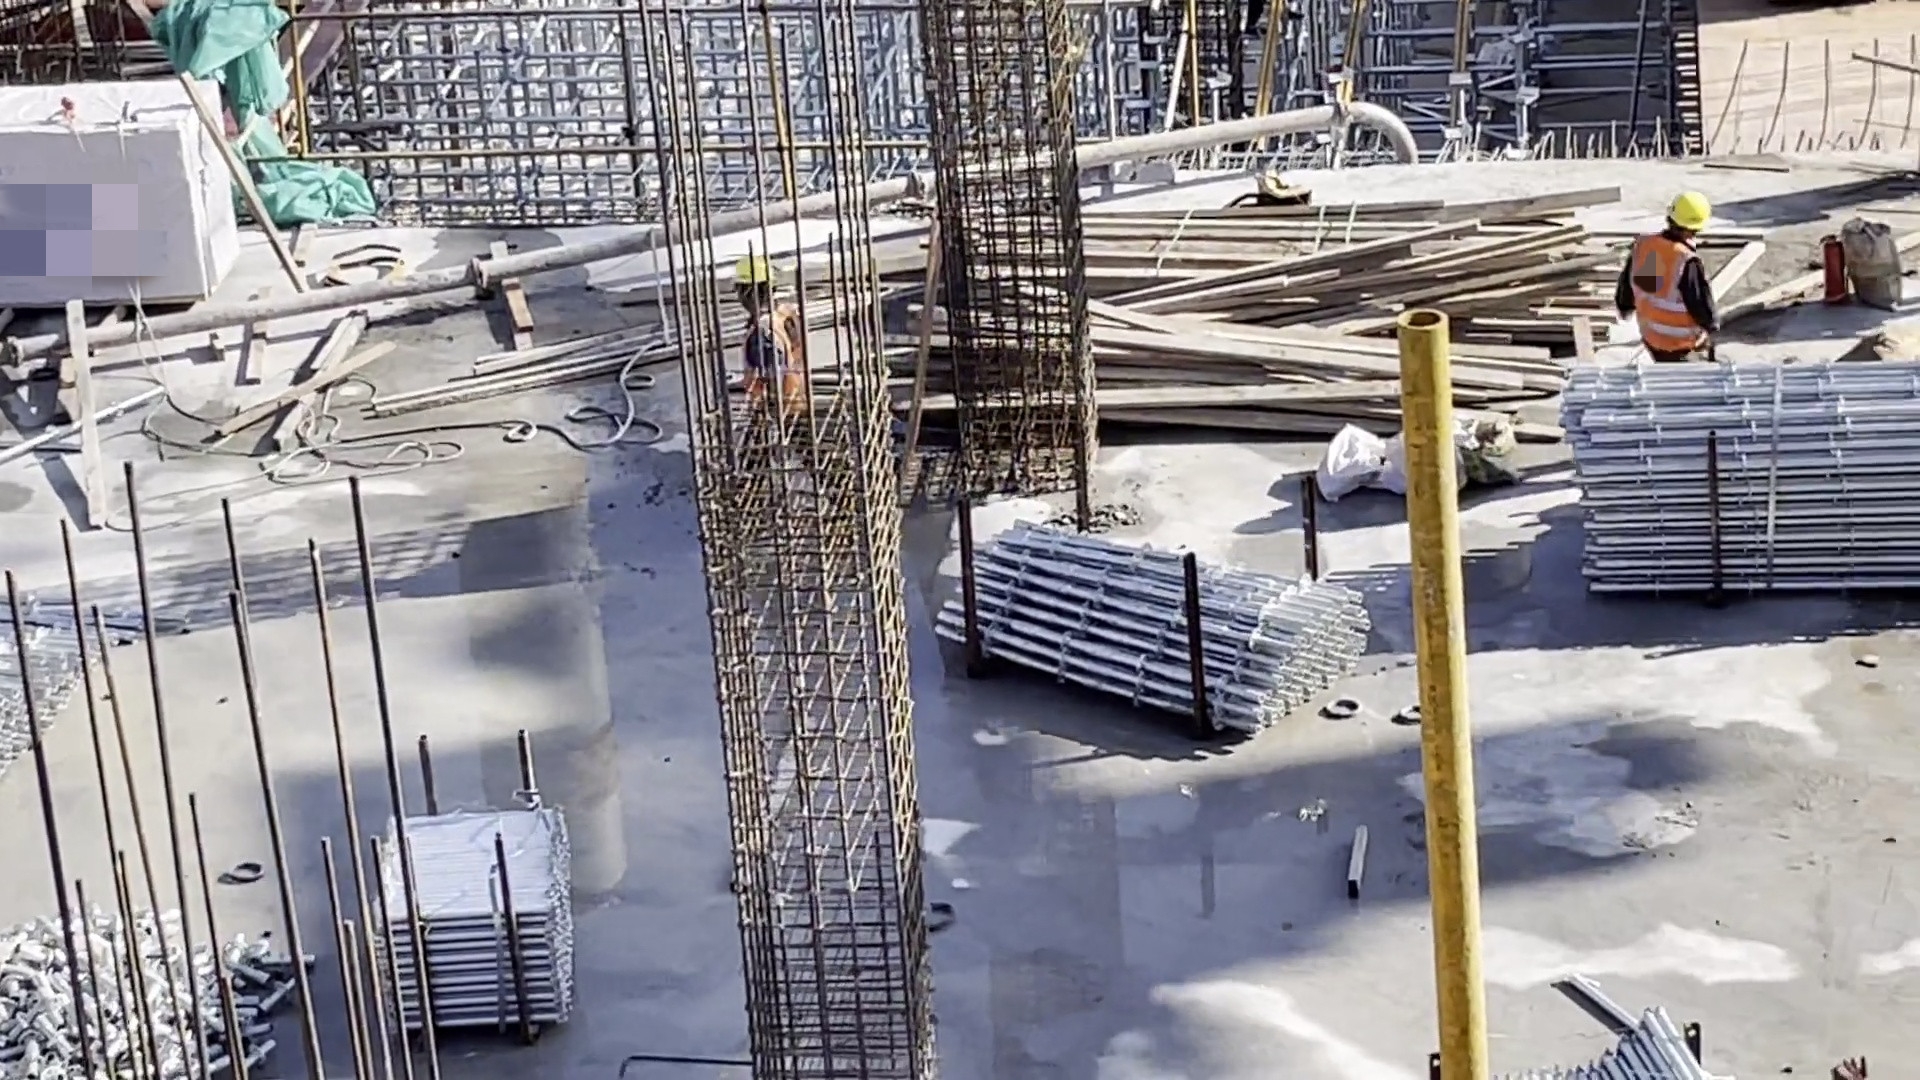helmet: (1660, 191, 1711, 237), (733, 254, 777, 287)
person: (724, 253, 815, 480), (1620, 188, 1718, 367)
scaffold: (931, 517, 1373, 743), (1567, 373, 1920, 596), (1, 911, 310, 1080), (365, 800, 573, 1035), (1, 605, 127, 788), (1492, 1002, 1720, 1080)
vest: (747, 309, 827, 445), (1622, 242, 1703, 368)
wood: (1109, 199, 1541, 449)
